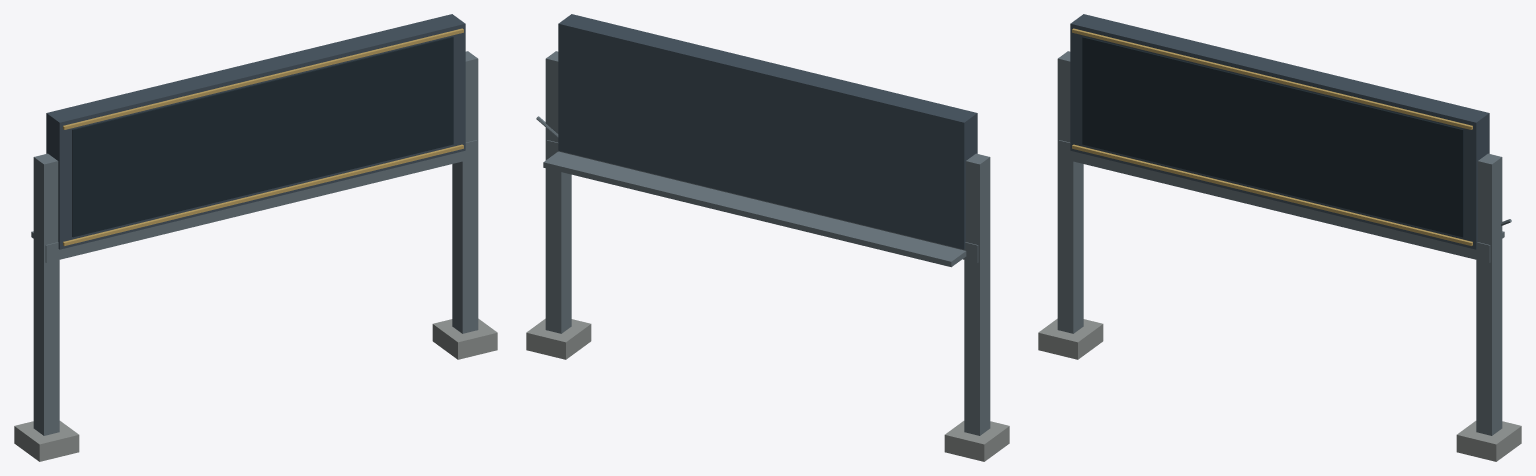
3 views of the same model, side by side, from view 1: azimuth 30°, elevation 25°; view 2: azimuth 150°, elevation 25°; view 3: azimuth 330°, elevation 25° (orthographic).
Parts seen in each view (by area): view 1: Visual; view 2: Visual; view 3: Visual.
Part boxes in pixels (x1,y1,x2,y2): Visual: [14, 14, 497, 461]; Visual: [526, 14, 1009, 461]; Visual: [1038, 14, 1521, 461].
Size of the model in its own units: 21.9 by 15 by 2.75.
